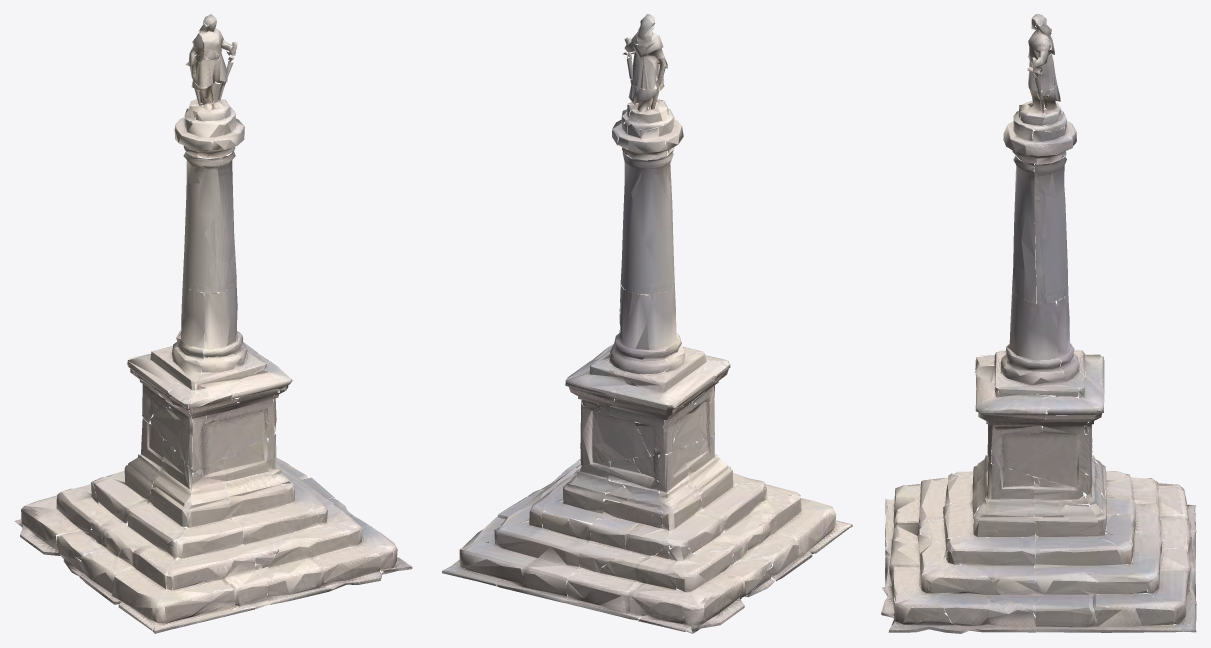
Rendered from monument.glb.
The picture shows the model from 3 angles, left to right: view 1: azimuth 30°, elevation 25°; view 2: azimuth 150°, elevation 25°; view 3: azimuth 270°, elevation 25°; orthographic projection. The views are drawn at different scales.
Parts seen in each view (by area): view 1: tripo_node_01a21f0d-2c91-7280-968c-6347087c3e80; view 2: tripo_node_01a21f0d-2c91-7280-968c-6347087c3e80; view 3: tripo_node_01a21f0d-2c91-7280-968c-6347087c3e80.
Boxes of the visible parts, x1,y1,x2,y2 form: tripo_node_01a21f0d-2c91-7280-968c-6347087c3e80: (14,14,412,633); tripo_node_01a21f0d-2c91-7280-968c-6347087c3e80: (442,14,852,633); tripo_node_01a21f0d-2c91-7280-968c-6347087c3e80: (881,14,1196,633).
Bounding box in the file's own units: 6.98 × 13.52 × 6.98.
Materials: 1 (1 with a texture image).
